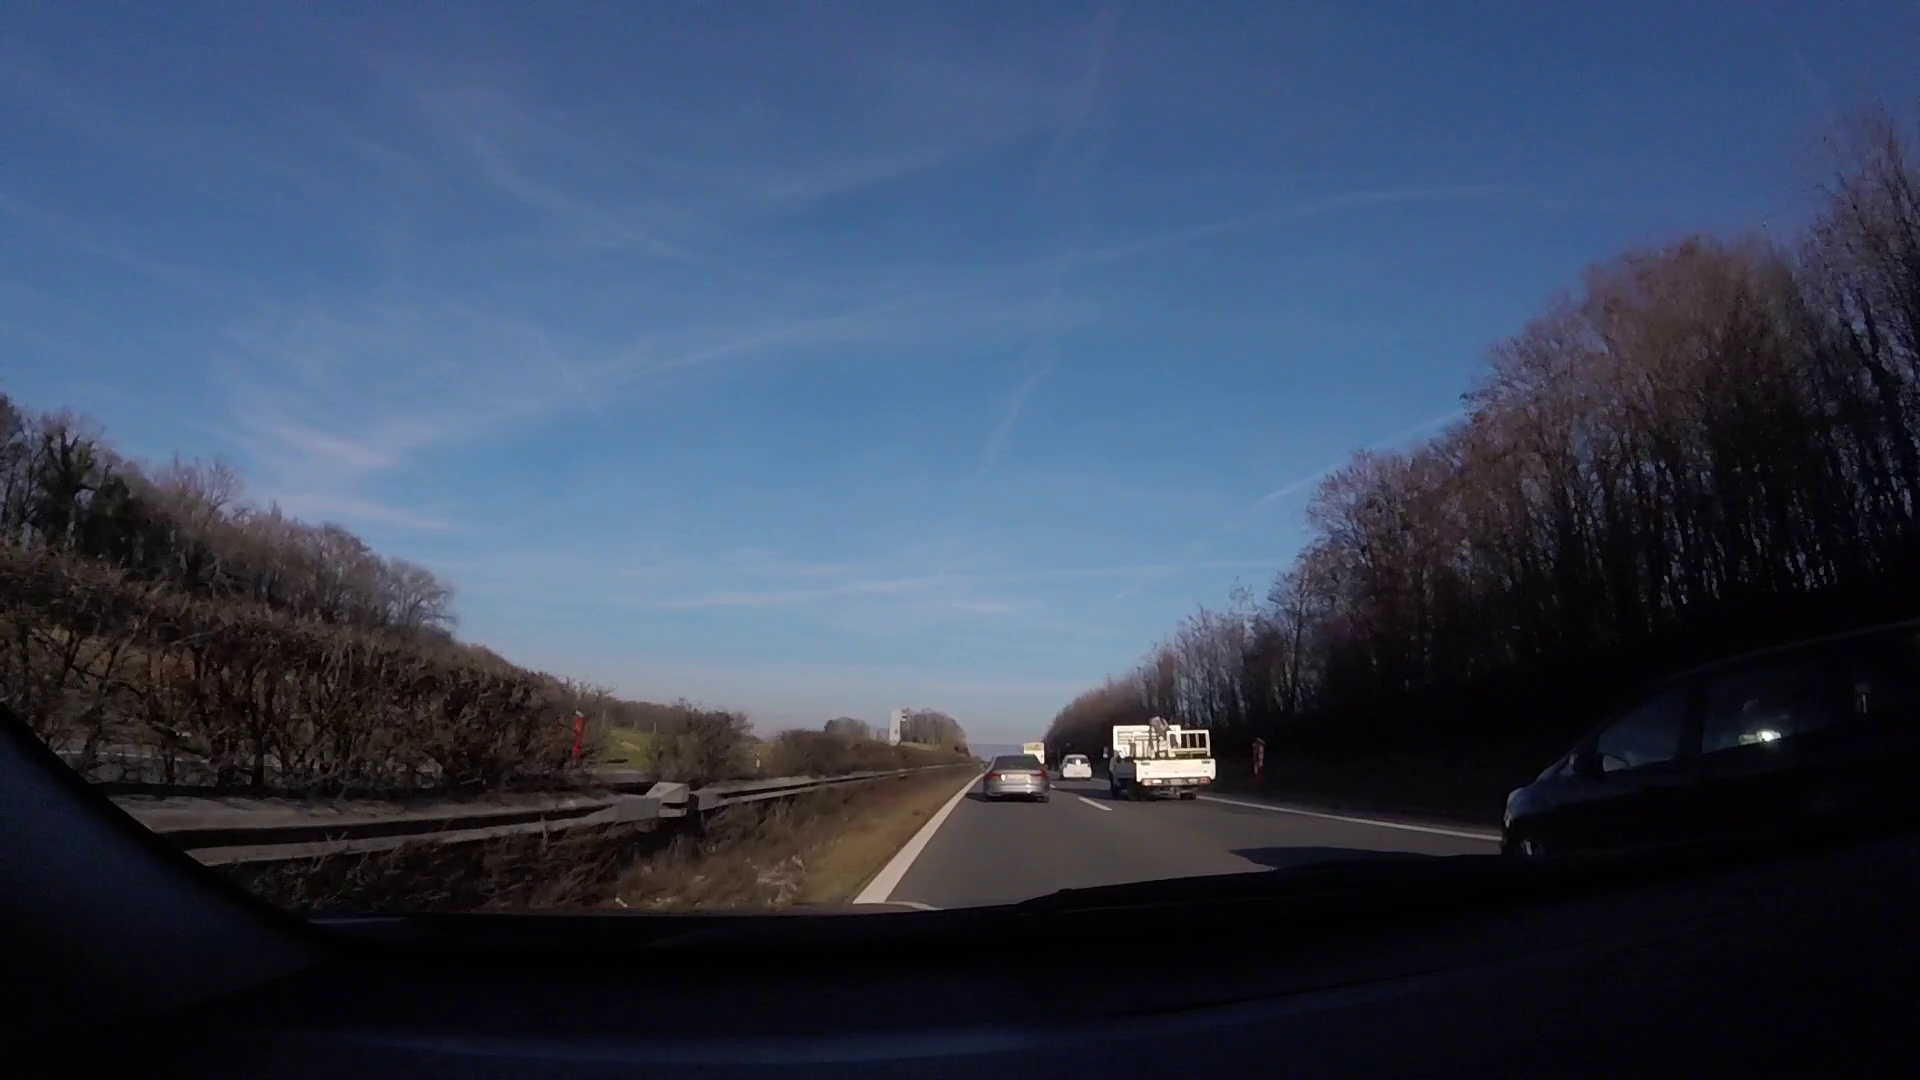radar: (889, 705, 913, 754)
